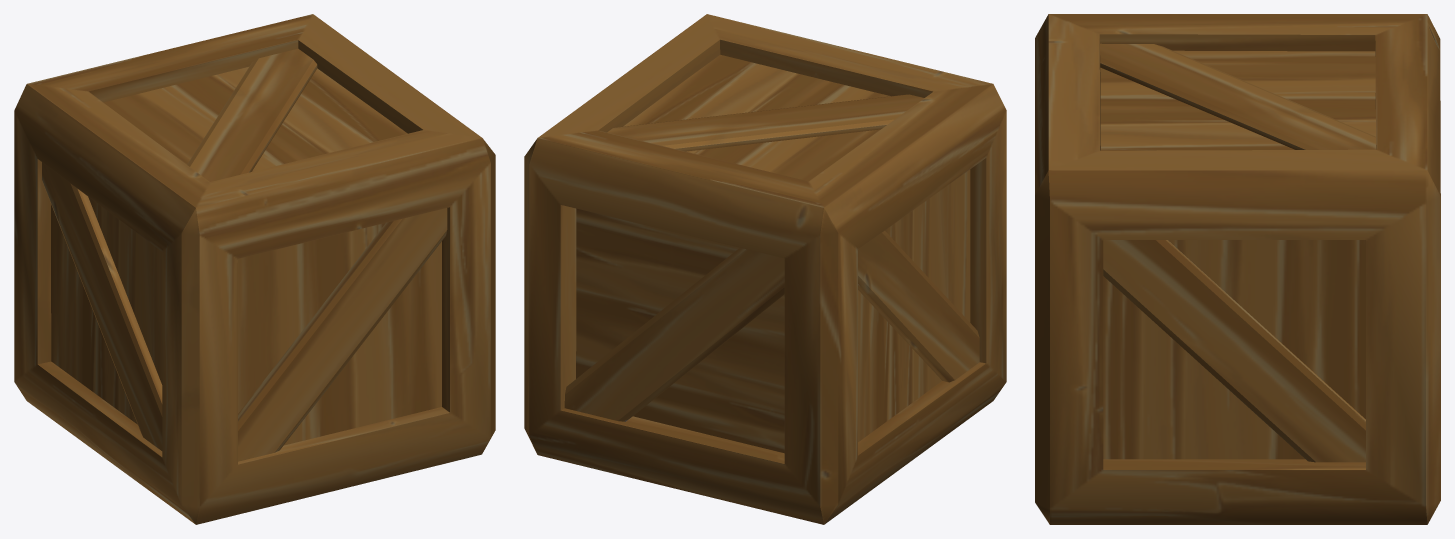
Rendered from wooden Crate.fbx.
3 renders of one model, left to right at view 1: azimuth 30°, elevation 25°; view 2: azimuth 150°, elevation 25°; view 3: azimuth 270°, elevation 25°, orthographic. The views are drawn at different scales.
Visible parts, largest first — view 1: pCube33; view 2: pCube33; view 3: pCube33.
Part boxes in pixels (<box>): pCube33: <box>14,14,495,524</box>; pCube33: <box>524,14,1006,524</box>; pCube33: <box>1035,14,1440,524</box>.
Size of the model in its own units: 51.38 by 49.56 by 51.38.
Materials: 1 (1 with a texture image).
